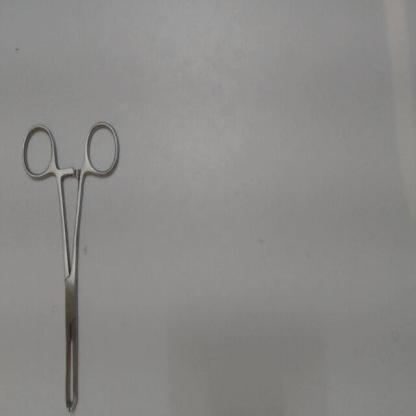Allis Tissue Forceps: (14, 113, 129, 415)
